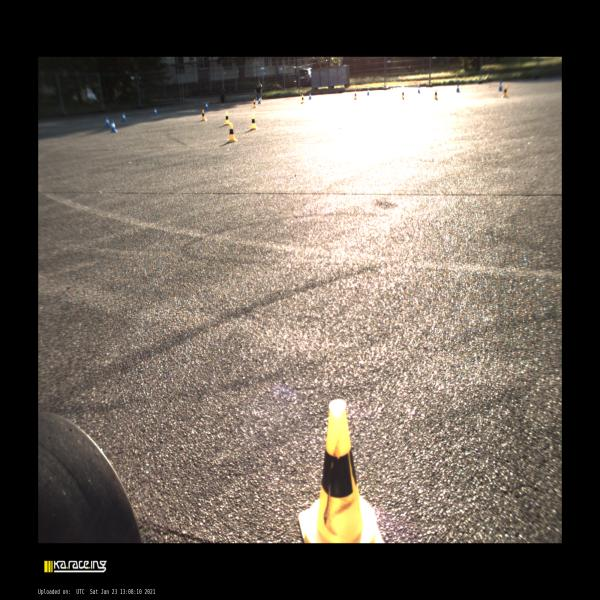blue_cone: (110, 119, 118, 132), (497, 81, 503, 91), (121, 112, 126, 122), (105, 117, 110, 126), (204, 102, 209, 109), (258, 96, 262, 104), (308, 92, 312, 100), (456, 84, 460, 92), (154, 108, 158, 115), (366, 88, 369, 95), (418, 85, 420, 93)
yellow_cone: (298, 400, 388, 543), (226, 124, 238, 142), (250, 114, 258, 130), (224, 112, 231, 124), (201, 109, 207, 121), (502, 85, 508, 97), (434, 90, 438, 100), (353, 90, 357, 100), (252, 99, 256, 108), (300, 95, 304, 103), (402, 90, 404, 99)
